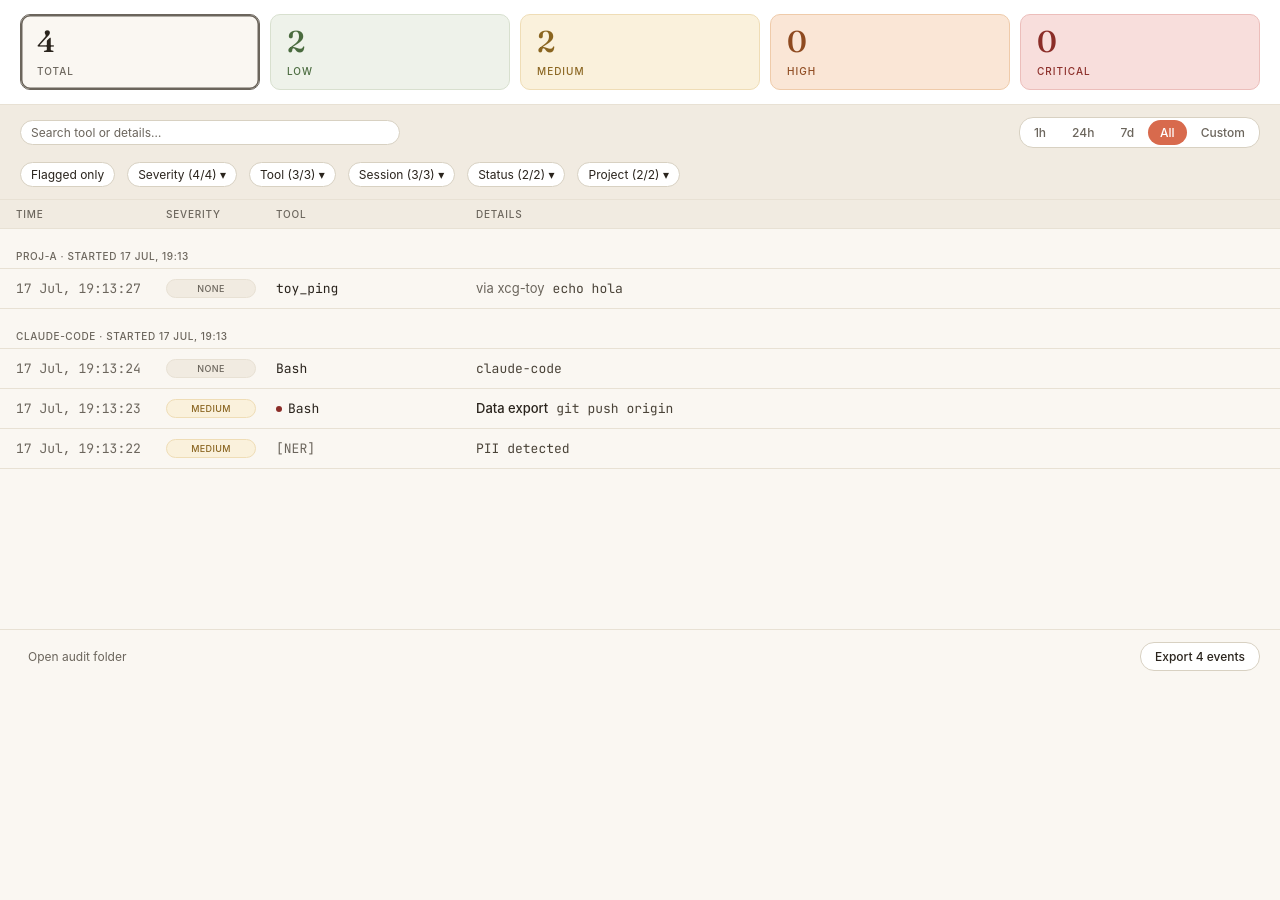
ClaudeCode view (F2.4 commit 4) › dropdown closing (fix: outside = the open chip only) › (a) Escape closes the open menu
This screenshot has width=1280, height=900.
Click the button "Tool (3/3) ▾" at coordinates (292, 174), box x1=249 y1=162 x2=336 y2=187
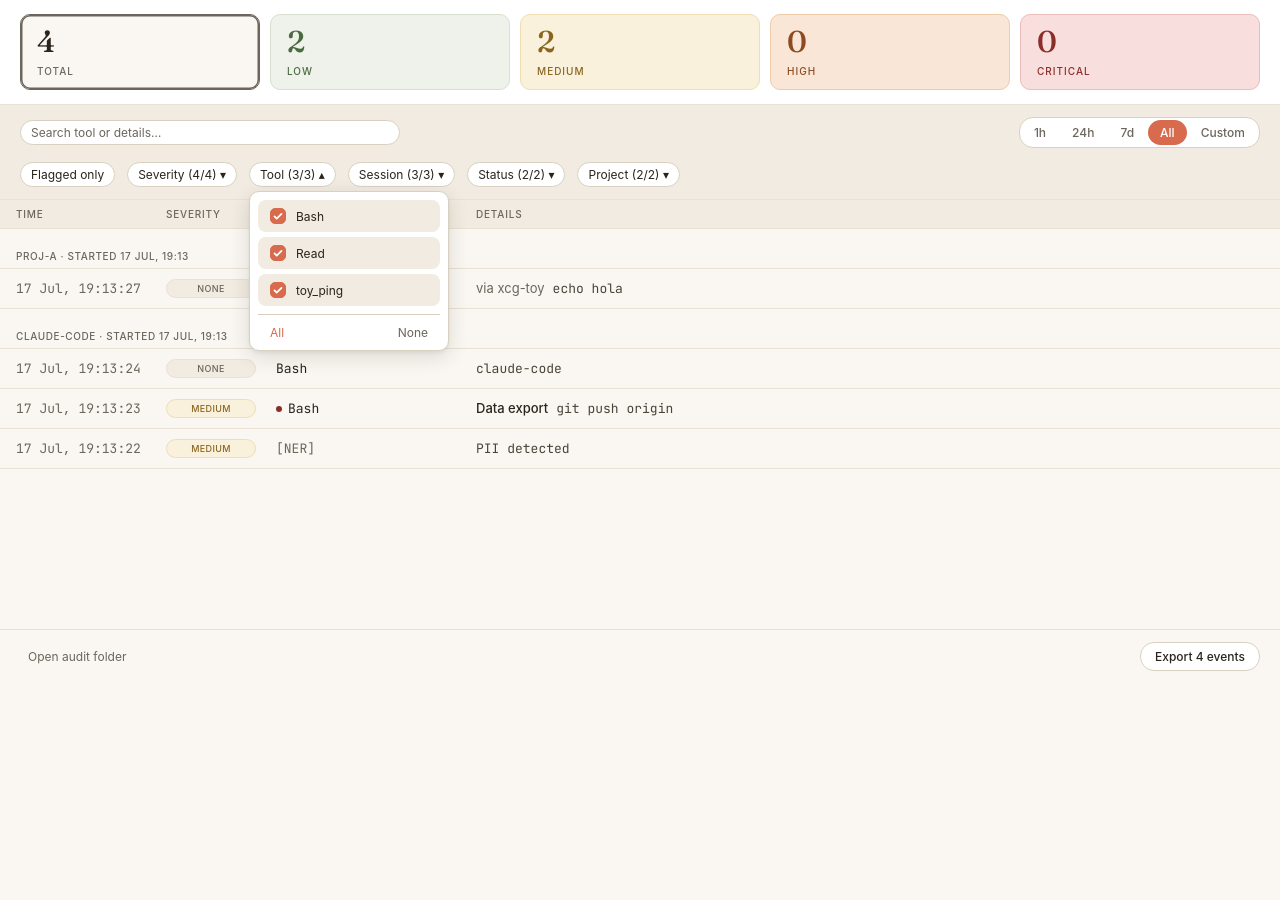
Now the checkbox labelled "Read" is shown, box x1=270 y1=245 x2=286 y2=261
Press Escape
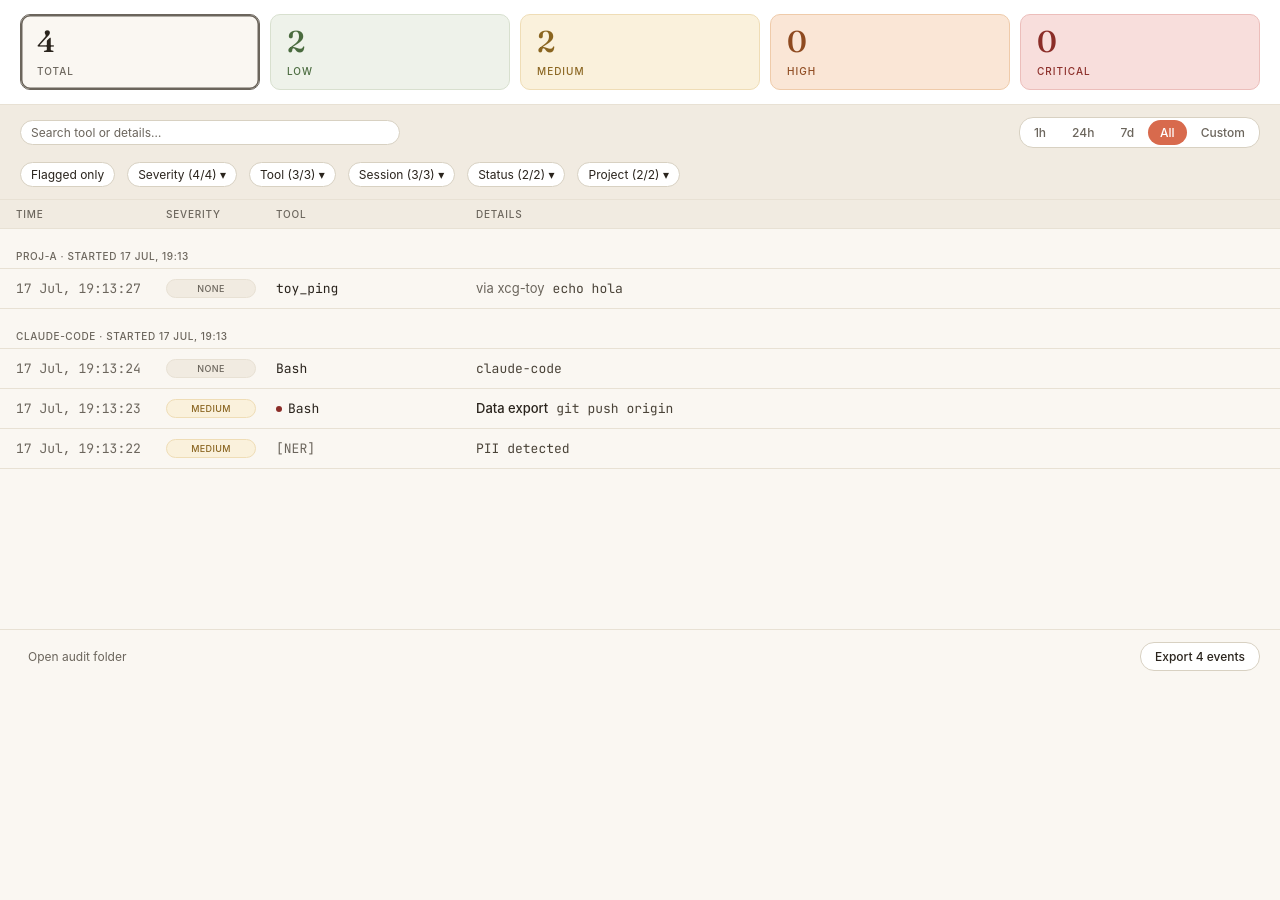
Now the text labelled "Read" is gone
